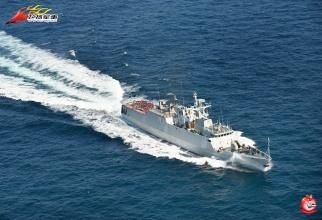warship: (121, 85, 284, 168)
